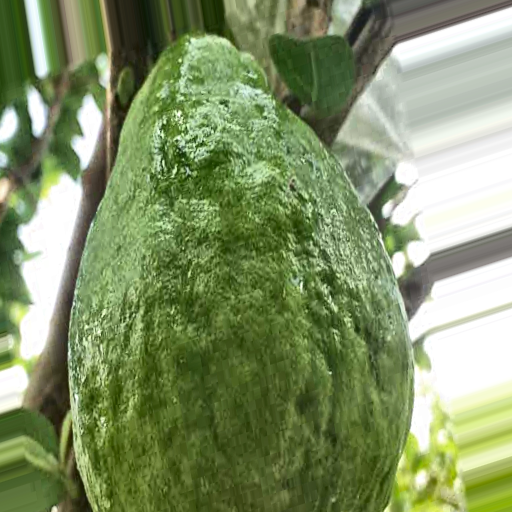guava: (20, 59, 444, 417)
